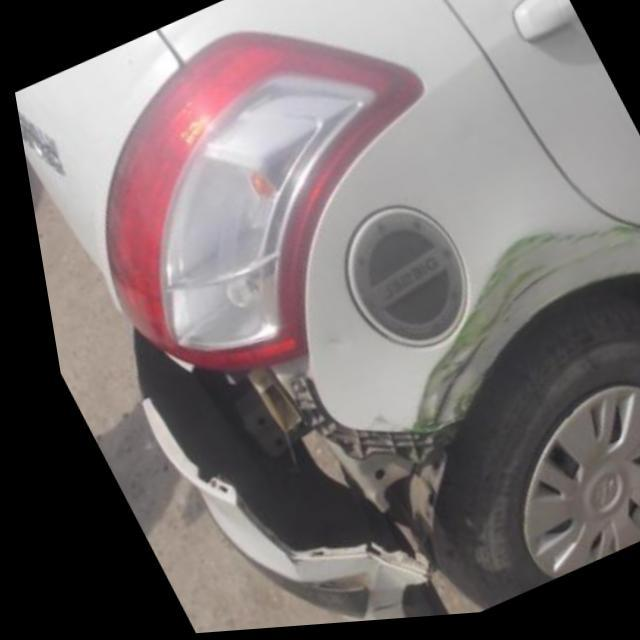dislocated part: (120, 327, 438, 586)
rub: (390, 228, 640, 447)
